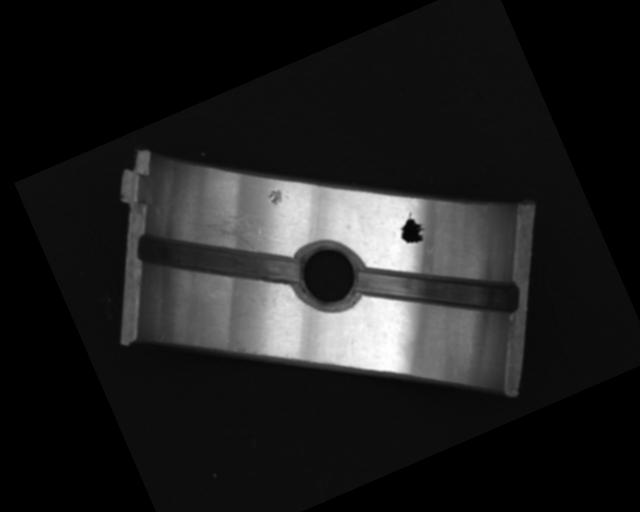blot: (392, 209, 430, 250)
bruise: (265, 185, 290, 207)
gap: (131, 185, 302, 336), (356, 217, 522, 361)
hole: (285, 233, 371, 319)
scratch: (184, 196, 267, 273)
